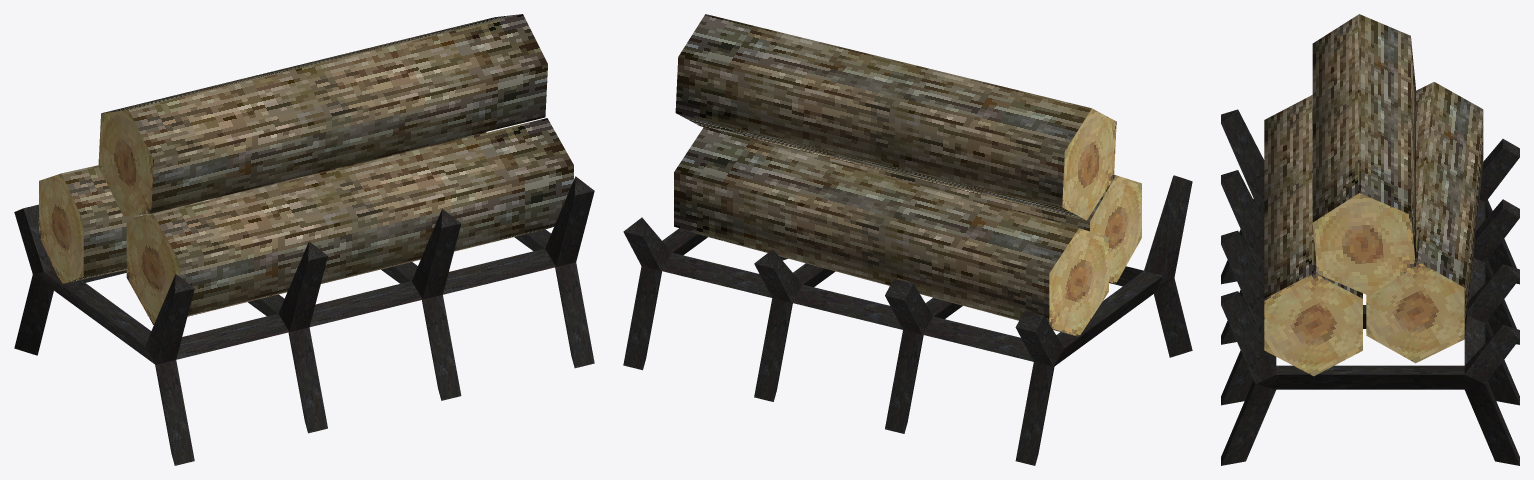
The model's file is fireplace_logs.fbx.
3 renders of one model, left to right at view 1: azimuth 30°, elevation 25°; view 2: azimuth 150°, elevation 25°; view 3: azimuth 270°, elevation 25°, orthographic. The views are drawn at different scales.
Parts seen in each view (by area): view 1: mesh_0; view 2: mesh_0; view 3: mesh_0.
Part boxes in pixels (x1=…): mesh_0: x1=14, y1=14, x2=594, y2=465; mesh_0: x1=623, y1=14, x2=1192, y2=465; mesh_0: x1=1221, y1=14, x2=1519, y2=465.
Size of the model in its own units: 63.81 by 42.23 by 41.72.
Materials: 1 (1 with a texture image).
